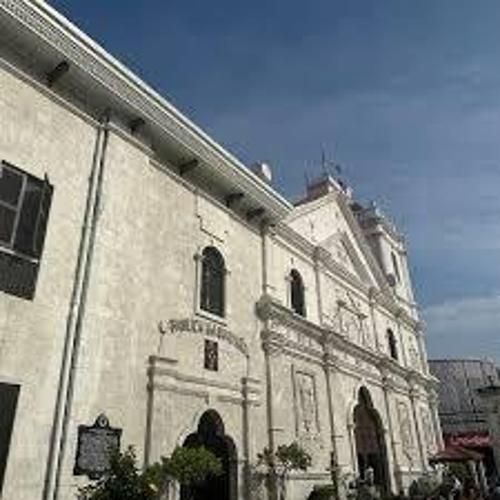Sto. Nino Basilica Church: (251, 151, 451, 500)
